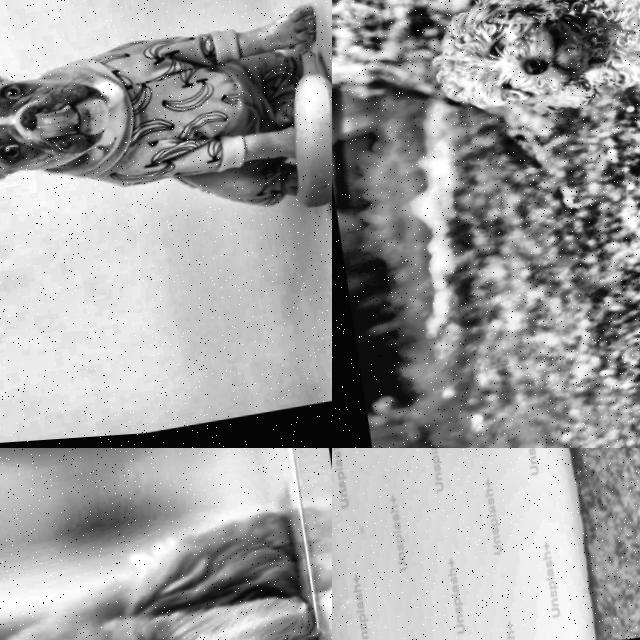bulldog: (0, 38, 141, 228)
husky: (341, 448, 640, 488)
poodle: (0, 507, 332, 640), (383, 0, 632, 157)
